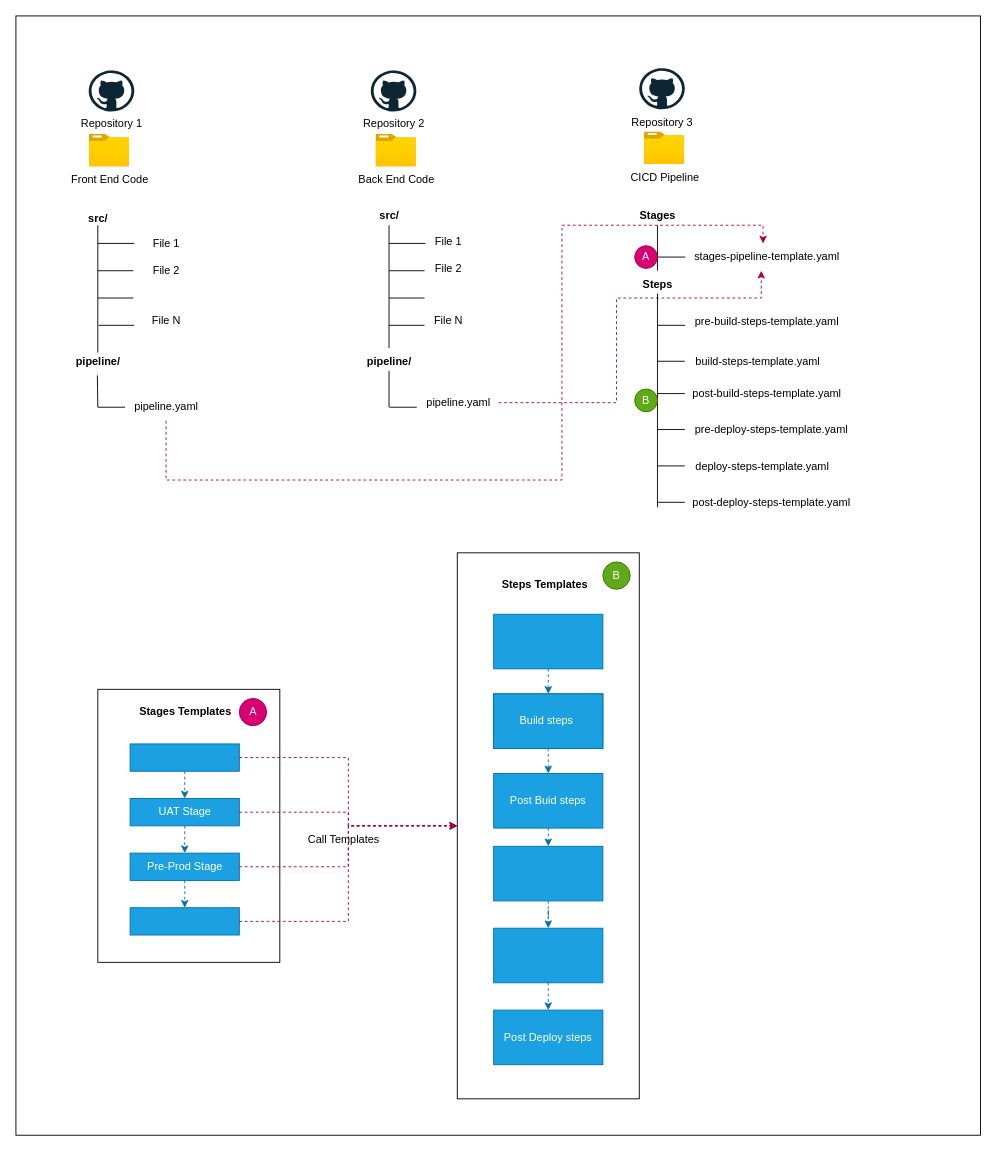
This 996x1151 diagram has some shape labels left out. The shapes that lost their labels are listed below. From the top down, each one's centre as x and y in pixels, then its label:
[548,641]: Pre Build steps
[184,757]: Dev Stage
[548,873]: Pre Deploy steps
[184,921]: Prod Stage
[548,955]: Deploy steps
